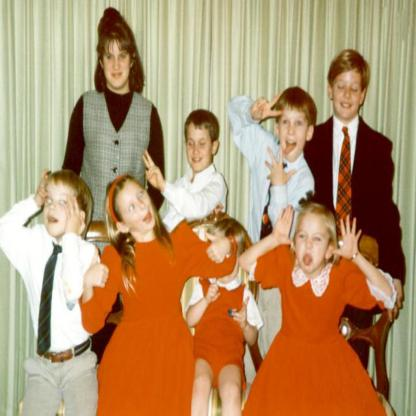face: (116, 184, 159, 231), (296, 219, 327, 275), (44, 180, 73, 236), (279, 108, 307, 165), (335, 66, 364, 121), (104, 38, 131, 89), (187, 124, 212, 173)
